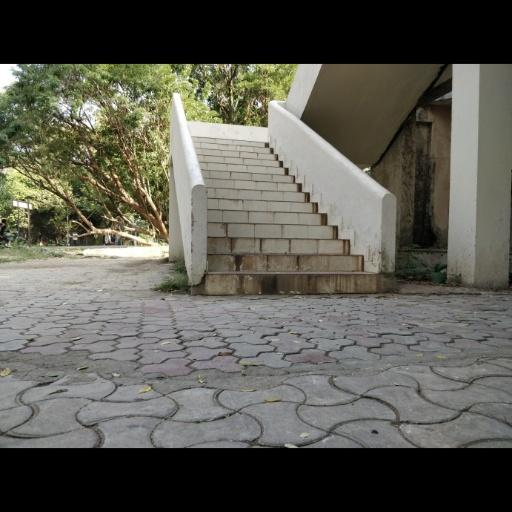stairs: (191, 136, 385, 294)
